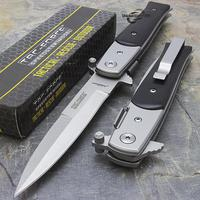knife: (13, 3, 193, 198)
